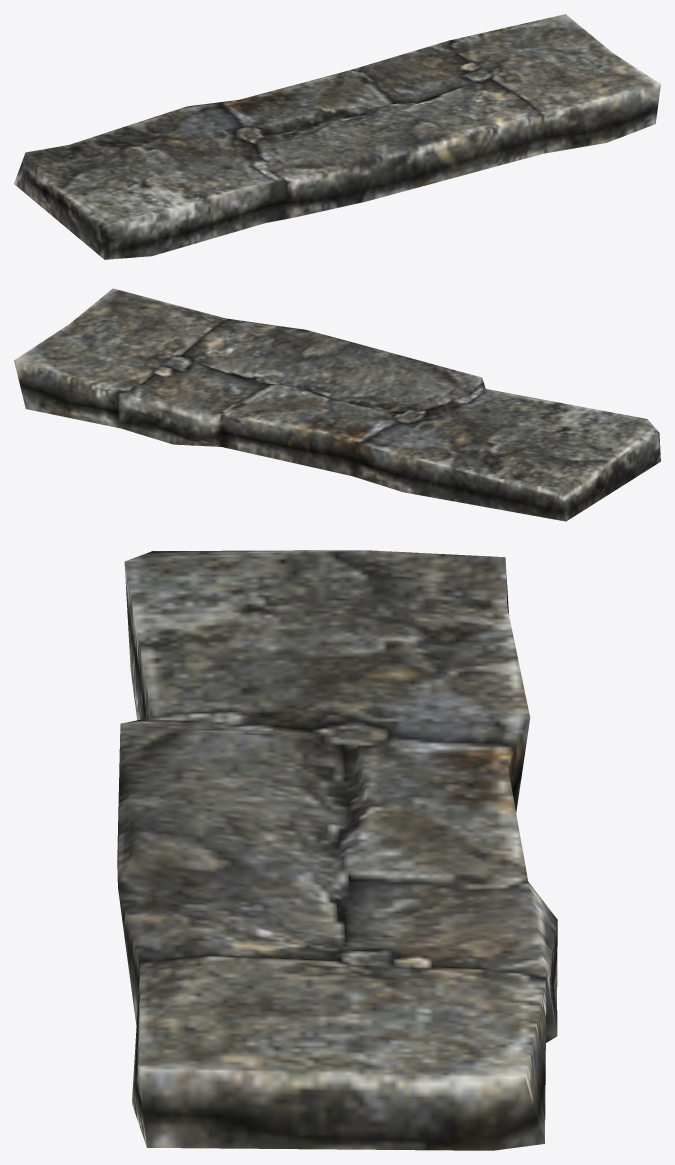
The model's file is Stair2.fbx.
The picture shows the model from 3 angles, top to bottom: view 1: azimuth 30°, elevation 25°; view 2: azimuth 150°, elevation 25°; view 3: azimuth 270°, elevation 25°; orthographic projection. The views are drawn at different scales.
Visible parts, largest first — view 1: polySurface2; view 2: polySurface2; view 3: polySurface2.
Boxes of the visible parts, x1,y1,x2,y2 form: polySurface2: (14, 14, 660, 259); polySurface2: (14, 288, 660, 521); polySurface2: (117, 550, 557, 1150).
Bounding box in the file's own units: 8.9 × 0.7996 × 3.06.
